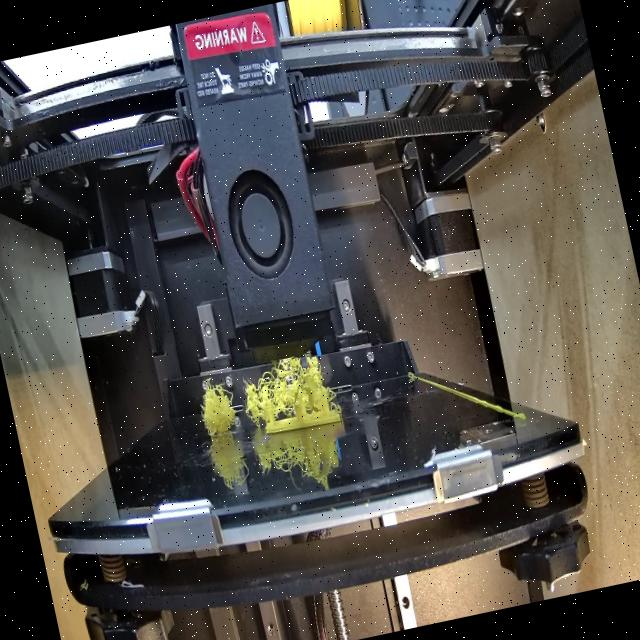spaghetti: (188, 341, 334, 438)
